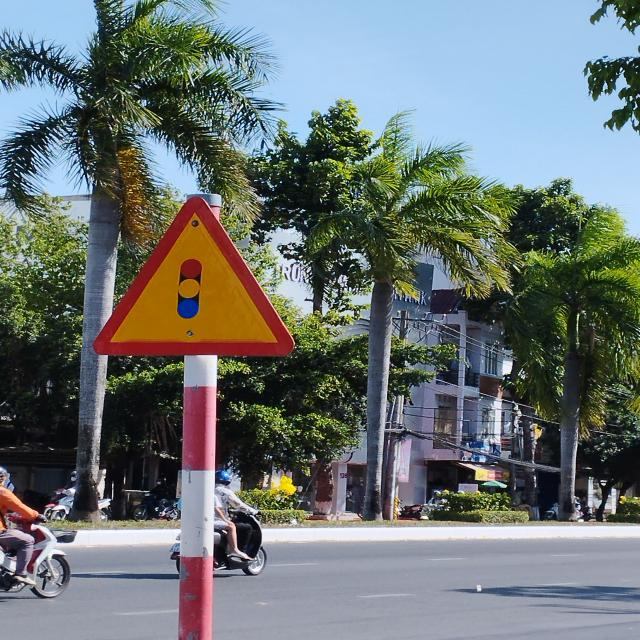Duong_Co_Go_Giam_Toc: (93, 195, 294, 356)
